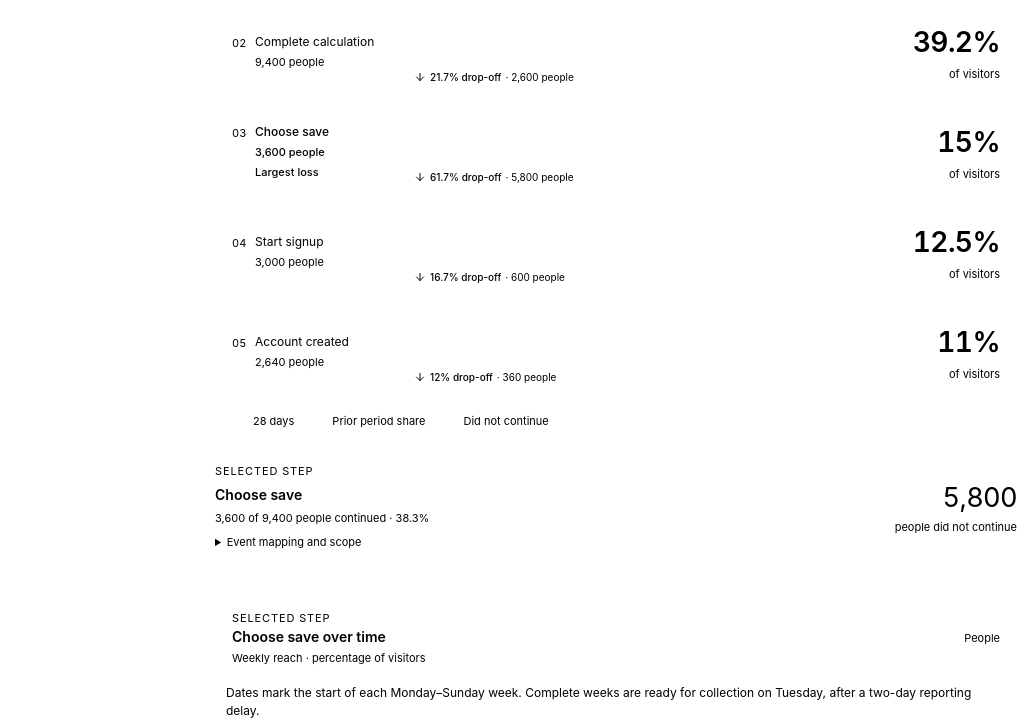
Test: JourneyMonitor › preserves a known zero count and displays a small nonzero weekly change
(page scrolled)
Click the button with aria-label "Inspect Account created": click(302, 342) 226,304 -> 1006,400
(page scrolled)
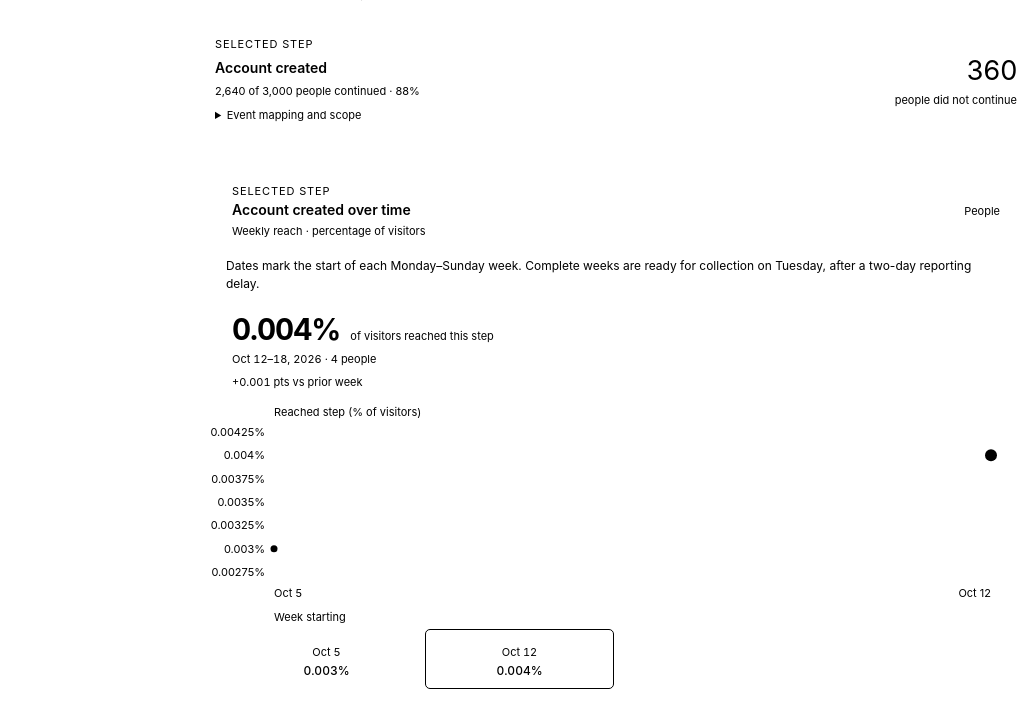
Now the element with class "journey-history-reading" shows "0.004%", box 232,311 -> 340,347
Now the element with class "journey-history-reading" shows "+0.001 pts vs prior week", box 232,375 -> 362,389
